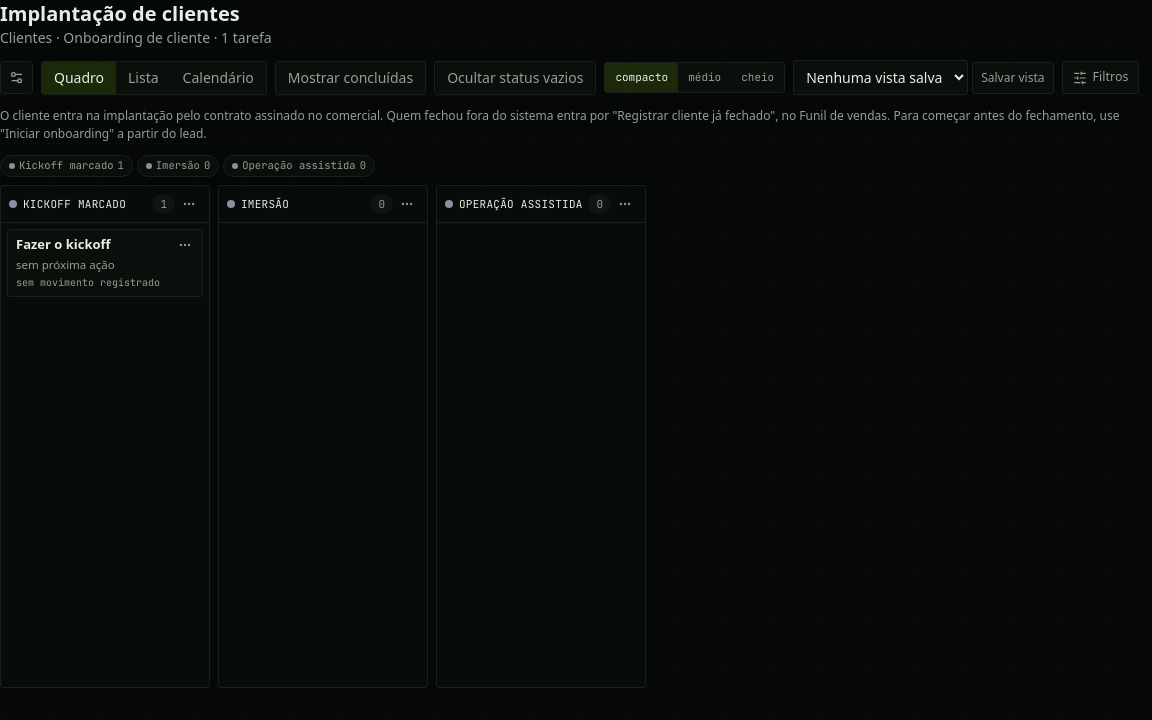
Test: P4: ocultar status vazios › vale na Implantação
Click the button with test id "trabalho-vazios" at (515, 78), box [434, 60, 596, 94]
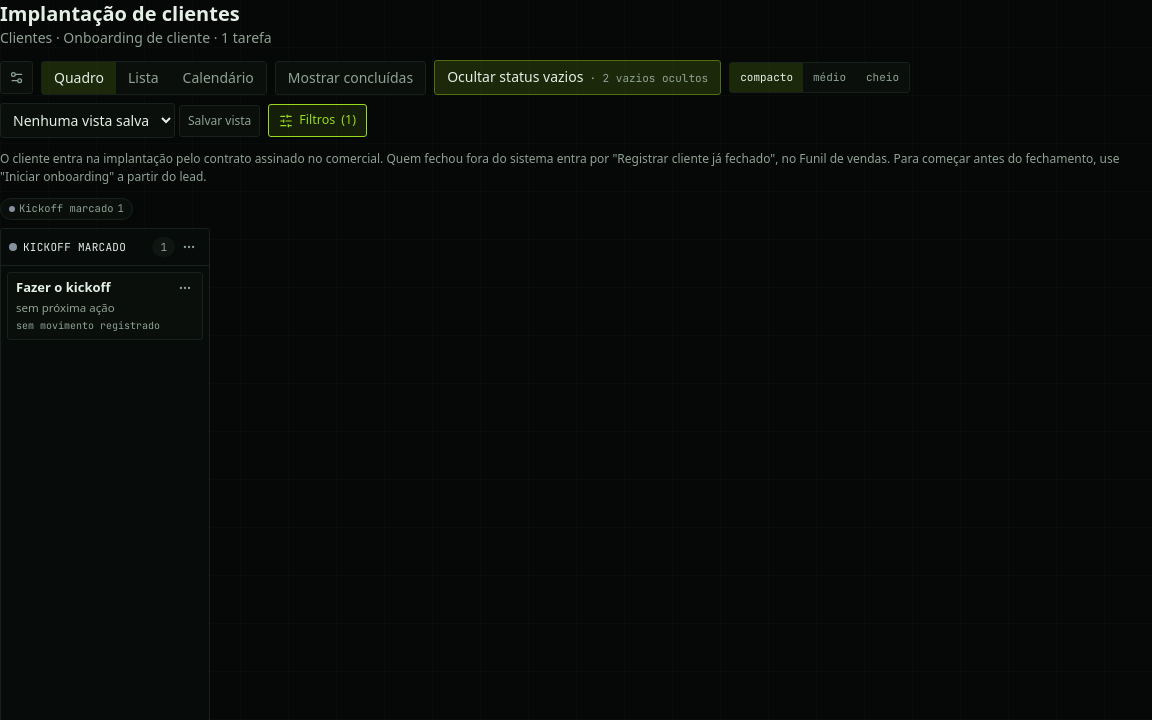
Click the button with test id "implantacao-filtros-botao" at (318, 120), box [268, 104, 367, 137]
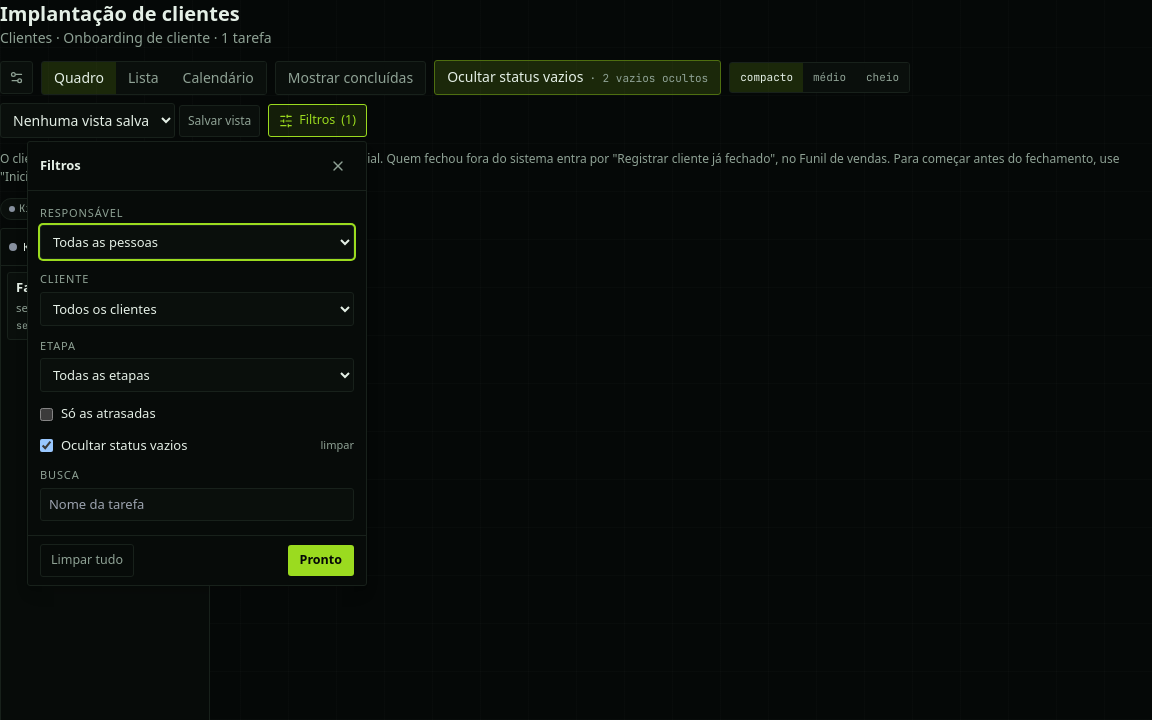
Now the checkbox with test id "implantacao-filtros-vazios" is checked, box [40, 439, 53, 452]
